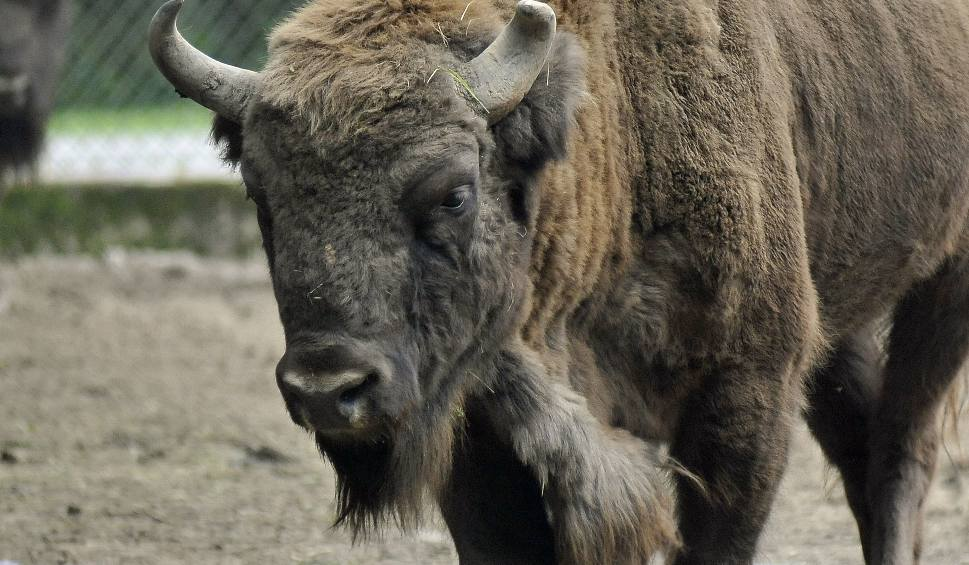zubr: (118, 3, 964, 565)
